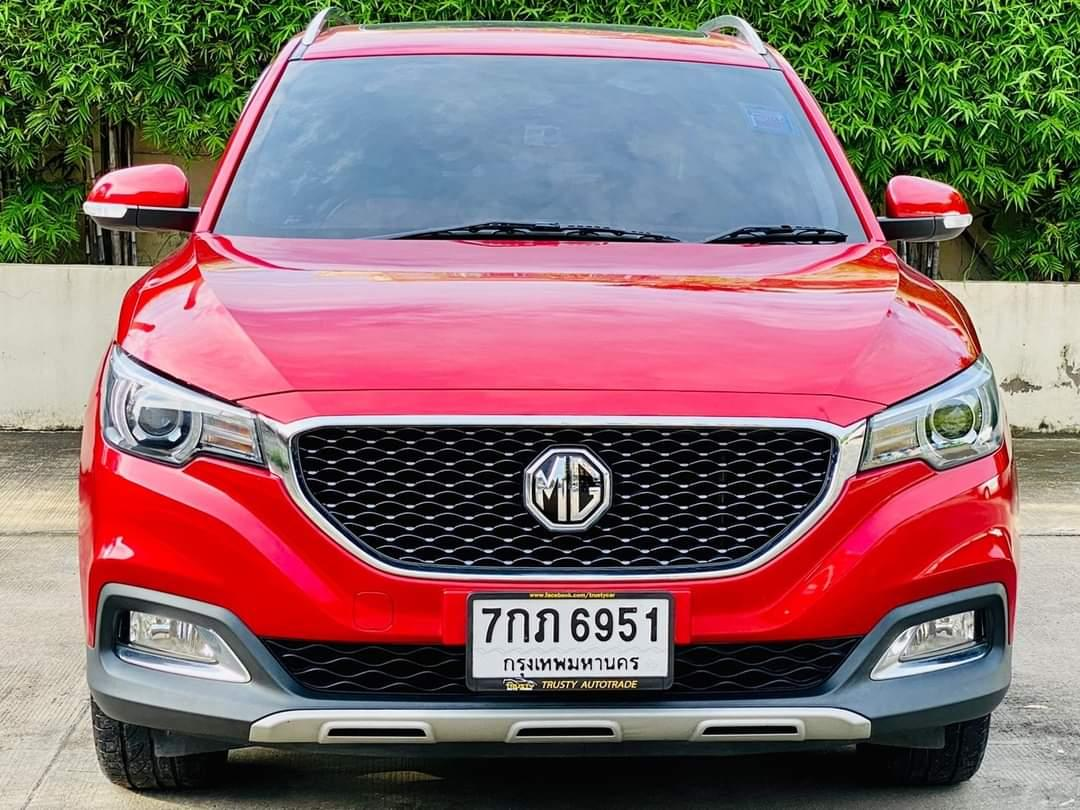license-plate: (465, 590, 677, 693)
